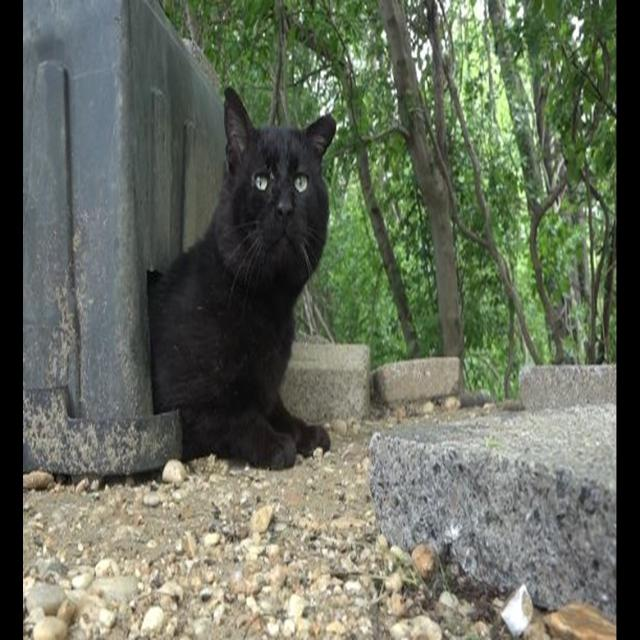cat: (148, 89, 335, 468)
